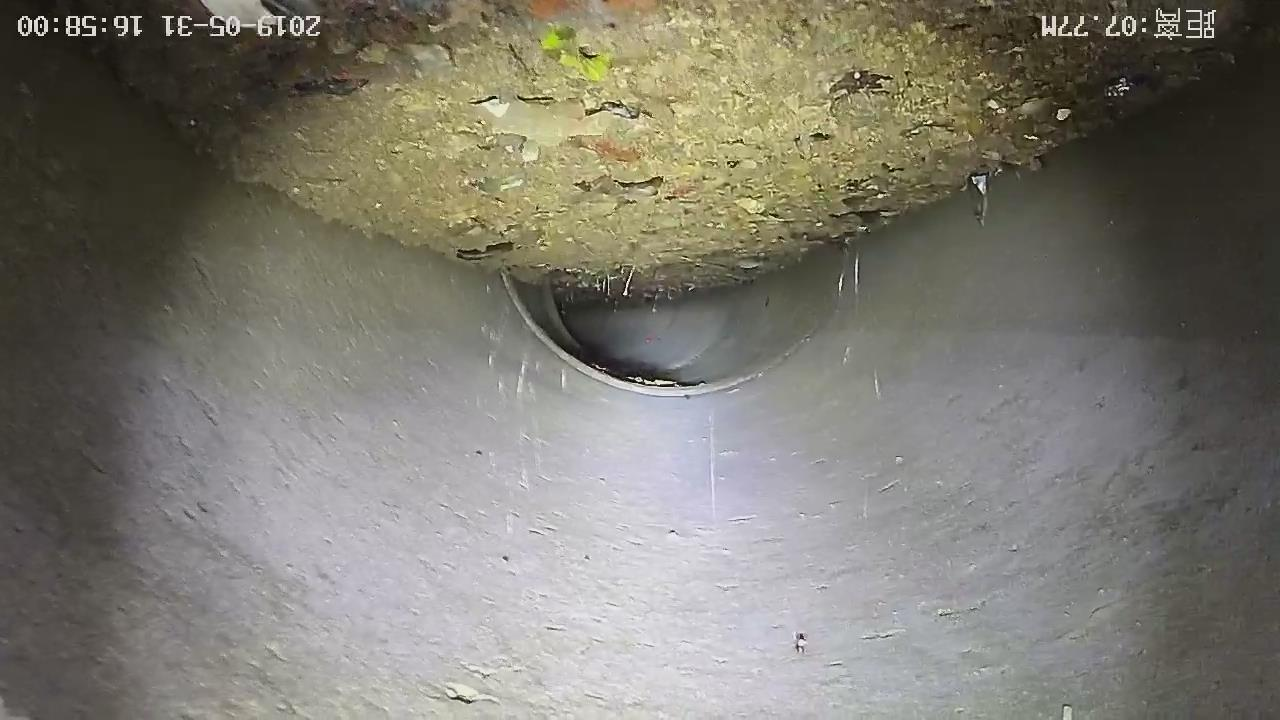CJ: (88, 1, 1239, 301)
CKTJ: (499, 227, 849, 401)
